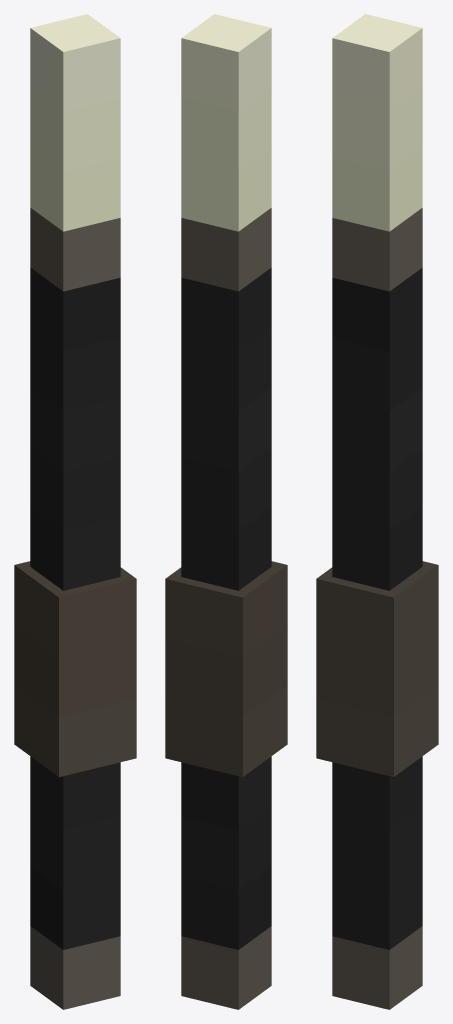
File: manaweaving_basic_linked.obj
3 renders of one model, left to right at view 1: azimuth 30°, elevation 25°; view 2: azimuth 150°, elevation 25°; view 3: azimuth 330°, elevation 25°, orthographic.
Parts seen in each view (by area): view 1: Cube.003_Cube.005; view 2: Cube.003_Cube.005; view 3: Cube.003_Cube.005.
Part boxes in pixels (x1,y1,x2,y2): Cube.003_Cube.005: [14, 14, 136, 1009]; Cube.003_Cube.005: [165, 14, 287, 1009]; Cube.003_Cube.005: [316, 14, 438, 1009].
Size of the model in its own units: 0.0846 by 1 by 0.0846.
